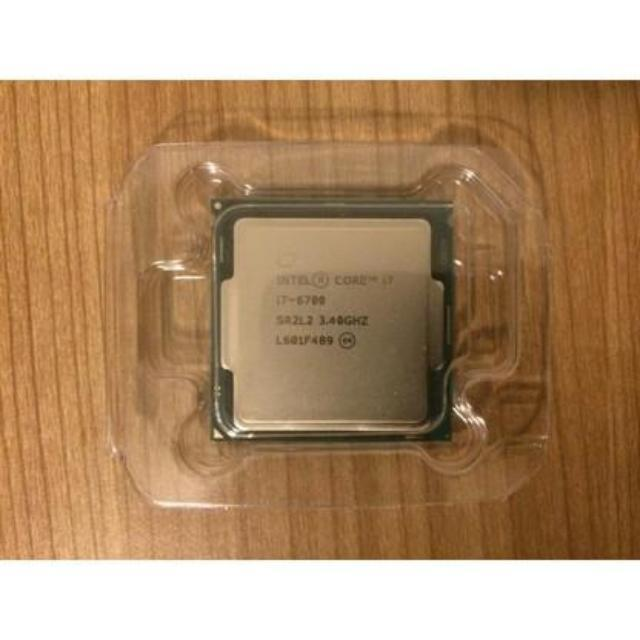CPU: (202, 194, 453, 438)
